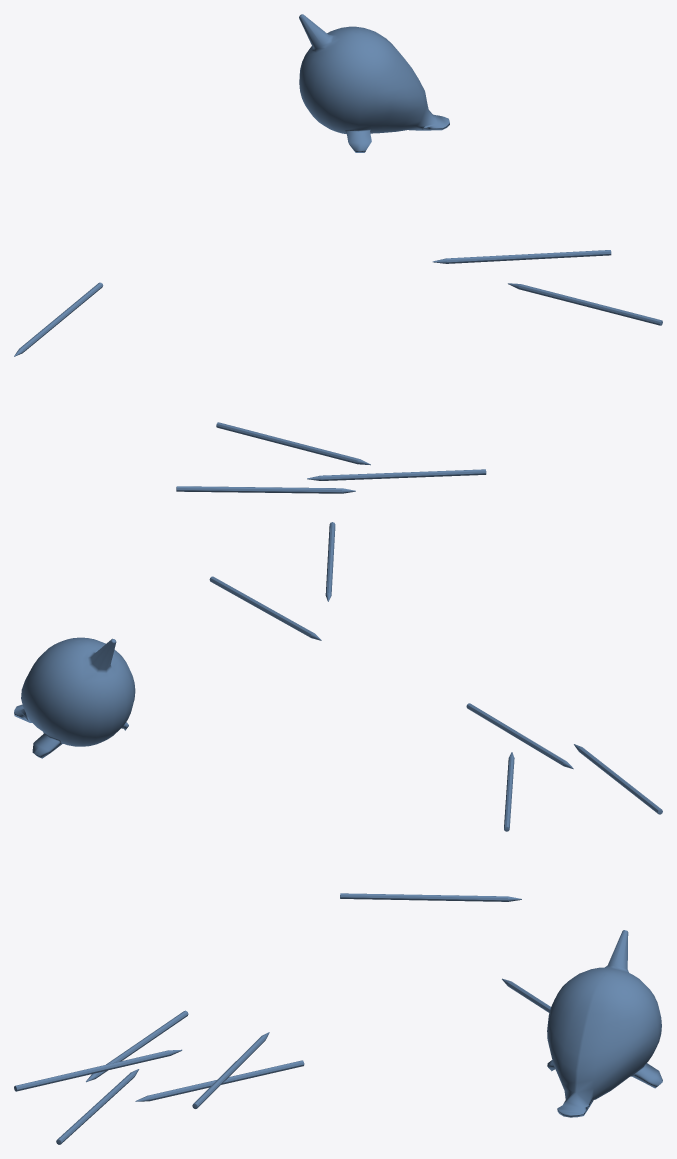
File: Plushy and Pencils.fbx
3 renders of one model, top to bottom at view 1: azimuth 30°, elevation 25°; view 2: azimuth 150°, elevation 25°; view 3: azimuth 270°, elevation 25°, orthographic. The views are drawn at different scales.
Visible parts, largest first — view 1: Plushy1, Pencil_2, Pencil_3, Pencil_5, Pencil_4, Pencil_1, Pencil_6; view 2: Plushy1, Pencil_6, Pencil_5, Pencil_3, Pencil_2; view 3: Plushy1, Pencil_4, Pencil_1, Pencil_3, Pencil_2, Pencil_5, Pencil_6.
Part boxes in pixels (x1=…): Plushy1: x1=299, y1=14, x2=449, y2=152; Pencil_2: x1=176, y1=486, x2=355, y2=493; Pencil_3: x1=307, y1=469, x2=486, y2=480; Pencil_5: x1=432, y1=250, x2=611, y2=263; Pencil_4: x1=508, y1=283, x2=662, y2=325; Pencil_1: x1=216, y1=422, x2=370, y2=465; Pencil_6: x1=14, y1=282, x2=103, y2=356; Plushy1: x1=14, y1=637, x2=135, y2=758; Pencil_6: x1=340, y1=893, x2=521, y2=901; Pencil_5: x1=209, y1=576, x2=321, y2=640; Pencil_3: x1=466, y1=703, x2=573, y2=769; Pencil_2: x1=574, y1=744, x2=662, y2=814; Plushy1: x1=547, y1=930, x2=662, y2=1117; Pencil_4: x1=14, y1=1049, x2=182, y2=1091; Pencil_1: x1=135, y1=1060, x2=304, y2=1101; Pencil_3: x1=56, y1=1069, x2=139, y2=1144; Pencil_2: x1=86, y1=1010, x2=188, y2=1082; Pencil_5: x1=192, y1=1032, x2=269, y2=1108; Pencil_6: x1=502, y1=978, x2=550, y2=1012.
Bounding box in the file's own units: 44.95 × 22.43 × 51.11.
